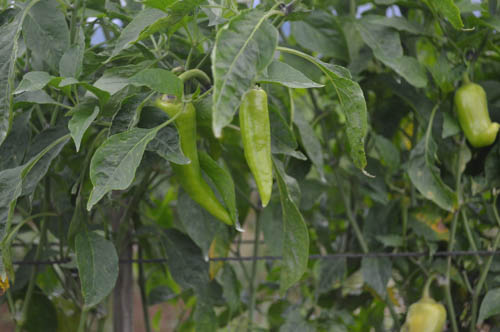ChiliPepper: (158, 101, 235, 227), (240, 88, 275, 208), (453, 83, 496, 147)
